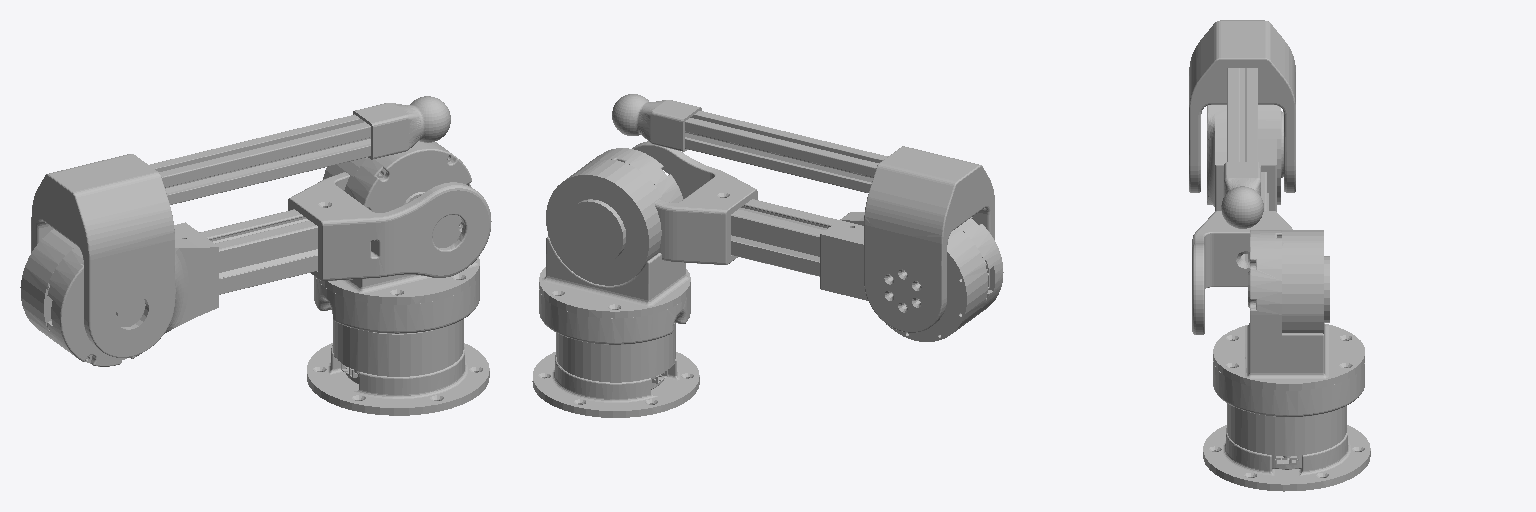
The robot description file, URDF, robot "RAVEN_assembly2":
<?xml version="1.0" encoding="utf-8"?>
<!-- This URDF was automatically created by SolidWorks to URDF Exporter! Originally created by Stephen Brawner (brawner@gmail.com) 
     Commit Version: 1.6.0-4-g7f85cfe  Build Version: 1.6.7995.38578
     For more information, please see http://wiki.ros.org/sw_urdf_exporter -->
<robot
  name="RAVEN_assembly2">
  <link
    name="base_link">
    <inertial>
      <origin
        xyz="0.0001453 -7.3232E-07 0.02219"
        rpy="0 0 0" />
      <mass
        value="0.24946" />
      <inertia
        ixx="0.00014181"
        ixy="6.28E-09"
        ixz="-2.6684E-07"
        iyy="0.00013613"
        iyz="1.232E-09"
        izz="0.00022186" />
    </inertial>
    <visual>
      <origin
        xyz="0 0 0"
        rpy="0 0 0" />
      <geometry>
        <mesh
          filename="../meshes/base_link.STL" />
      </geometry>
      <material
        name="">
        <color
          rgba="0.75294 0.75294 0.75294 1" />
      </material>
    </visual>
    <collision>
      <origin
        xyz="0 0 0"
        rpy="0 0 0" />
      <geometry>
        <mesh
          filename="../meshes/base_link.STL" />
      </geometry>
    </collision>
  </link>
  <link
    name="shoulder_link">
    <inertial>
      <origin
        xyz="0.00016748 -0.00027507 -0.023903"
        rpy="0 0 0" />
      <mass
        value="0.4346" />
      <inertia
        ixx="0.00030527"
        ixy="-2.0494E-07"
        ixz="1.6194E-07"
        iyy="0.00038654"
        iyz="2.4834E-05"
        izz="0.00039063" />
    </inertial>
    <visual>
      <origin
        xyz="0 0 0"
        rpy="0 0 0" />
      <geometry>
        <mesh
          filename="../meshes/shoulder_link.STL" />
      </geometry>
      <material
        name="">
        <color
          rgba="0.75294 0.75294 0.75294 1" />
      </material>
    </visual>
    <collision>
      <origin
        xyz="0 0 0"
        rpy="0 0 0" />
      <geometry>
        <mesh
          filename="../meshes/shoulder_link.STL" />
      </geometry>
    </collision>
  </link>
  <joint
    name="shoulder_yaw"
    type="revolute">
    <origin
      xyz="0 0 0.120500000000001"
      rpy="0 0 0" />
    <parent
      link="base_link" />
    <child
      link="shoulder_link" />
    <axis
      xyz="0 0 -1" />
    <limit
      lower="-3.14"
      upper="3.14"
      effort="0"
      velocity="0" />
  </joint>
  <link
    name="upperArm_link">
    <inertial>
      <origin
        xyz="-0.16504 5.8627E-05 3.2792E-08"
        rpy="0 0 0" />
      <mass
        value="0.38582" />
      <inertia
        ixx="0.00023885"
        ixy="-2.5477E-05"
        ixz="3.1366E-10"
        iyy="0.00037973"
        iyz="1.5474E-10"
        izz="0.00037655" />
    </inertial>
    <visual>
      <origin
        xyz="0 0 0"
        rpy="0 0 0" />
      <geometry>
        <mesh
          filename="../meshes/upperArm_link.STL" />
      </geometry>
      <material
        name="">
        <color
          rgba="0.75294 0.75294 0.75294 1" />
      </material>
    </visual>
    <collision>
      <origin
        xyz="0 0 0"
        rpy="0 0 0" />
      <geometry>
        <mesh
          filename="../meshes/upperArm_link.STL" />
      </geometry>
    </collision>
  </link>
  <joint
    name="upperArm_pitch"
    type="revolute">
    <origin
      xyz="0 0 0"
      rpy="0 0 0" />
    <parent
      link="shoulder_link" />
    <child
      link="upperArm_link" />
    <axis
      xyz="0 1 0" />
    <limit
      lower="0"
      upper="3.14"
      effort="0"
      velocity="0" />
  </joint>
  <link
    name="foreArm_link">
    <inertial>
      <origin
        xyz="0.016257 0.002161 0.041839"
        rpy="0 0 0" />
      <mass
        value="0.16941" />
      <inertia
        ixx="0.00021126"
        ixy="-2.5493E-07"
        ixz="-1.0205E-08"
        iyy="0.00031247"
        iyz="3.9576E-06"
        izz="0.00028419" />
    </inertial>
    <visual>
      <origin
        xyz="0 0 0"
        rpy="0 0 0" />
      <geometry>
        <mesh
          filename="../meshes/foreArm_link.STL" />
      </geometry>
      <material
        name="">
        <color
          rgba="0.75294 0.75294 0.75294 1" />
      </material>
    </visual>
    <collision>
      <origin
        xyz="0 0 0"
        rpy="0 0 0" />
      <geometry>
        <mesh
          filename="../meshes/foreArm_link.STL" />
      </geometry>
    </collision>
  </link>
  <joint
    name="foreArm_pitch"
    type="revolute">
    <origin
      xyz="-0.22125 -0.0020573 0"
      rpy="0 0 0" />
    <parent
      link="upperArm_link" />
    <child
      link="foreArm_link" />
    <axis
      xyz="0 -1 0" />
    <limit
      lower="0"
      upper="3.14"
      effort="0"
      velocity="0" />
  </joint>
</robot>

--- Facts derived from the render (not from the file) ---
The picture shows the robot from 3 angles, left to right: view 1: azimuth 30°, elevation 25°; view 2: azimuth 150°, elevation 25°; view 3: azimuth 270°, elevation 25°; orthographic projection.
Robot: RAVEN_assembly2 — 4 links, 3 joints (3 revolute); root link base_link; default pose: every joint at zero.
Visible links, largest first — view 1: foreArm_link, upperArm_link, shoulder_link, base_link; view 2: foreArm_link, shoulder_link, upperArm_link, base_link; view 3: shoulder_link, foreArm_link, base_link, upperArm_link.
Boxes of the visible links, x1=… form: foreArm_link: x1=31, y1=96, x2=450, y2=357; upperArm_link: x1=20, y1=172, x2=491, y2=366; shoulder_link: x1=314, y1=141, x2=479, y2=333; base_link: x1=307, y1=319, x2=489, y2=415; foreArm_link: x1=612, y1=94, x2=994, y2=332; shoulder_link: x1=539, y1=148, x2=690, y2=344; upperArm_link: x1=632, y1=141, x2=1003, y2=341; base_link: x1=532, y1=323, x2=699, y2=417; shoulder_link: x1=1213, y1=230, x2=1364, y2=416; foreArm_link: x1=1189, y1=20, x2=1295, y2=228; base_link: x1=1203, y1=403, x2=1370, y2=491; upperArm_link: x1=1192, y1=105, x2=1292, y2=334.
Size in the robot's own frame: 0.3192 by 0.1191 by 0.1985 metres.
4 mesh visuals loaded from 4 distinct referenced files (4 binary STL).
